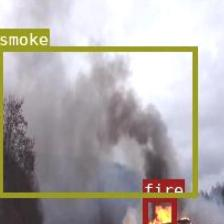fire: (142, 196, 175, 224)
smoke: (0, 45, 196, 196)
